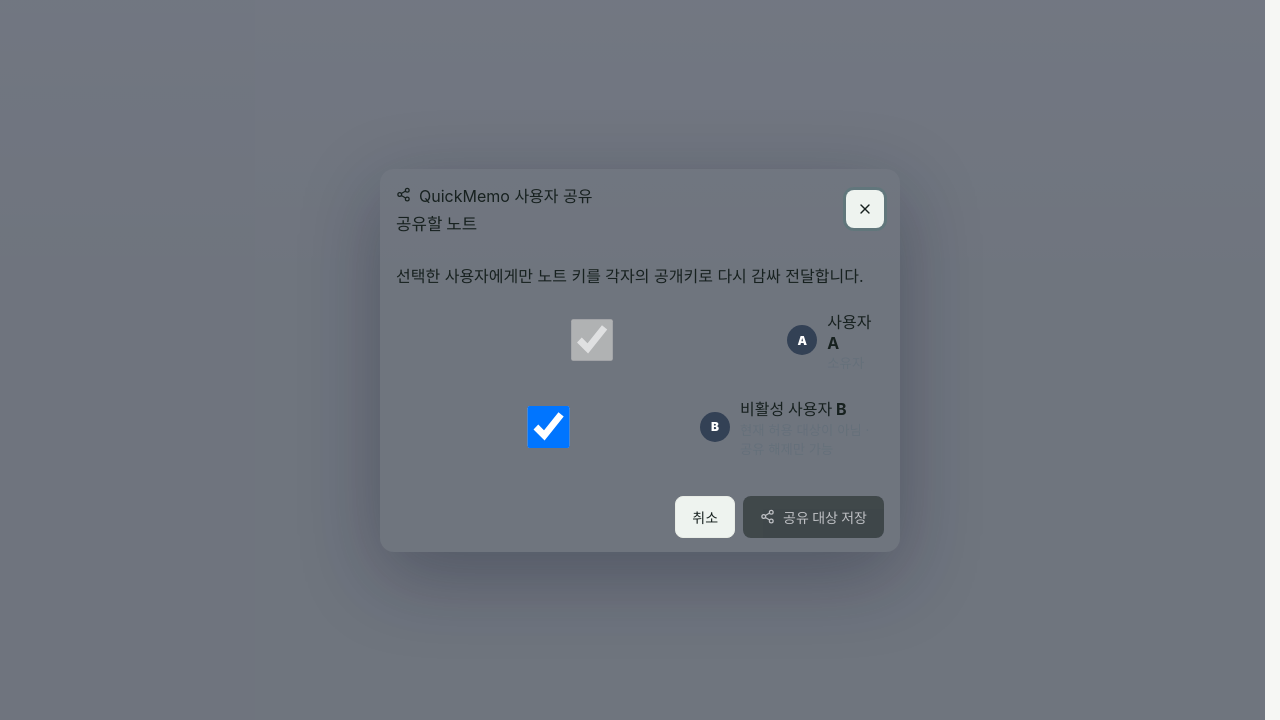
Scenario: VaultParticipantShareDialog › renders an unavailable existing participant as removable but never addable again
Expected: the button "공유 대상 저장" is disabled, [743, 496, 884, 538]
Click the checkbox labelled "B 비활성 사용자 B 현재 허용 대상이 아님 · 공유 해제만 가능" at (548, 426), box [410, 406, 687, 448]
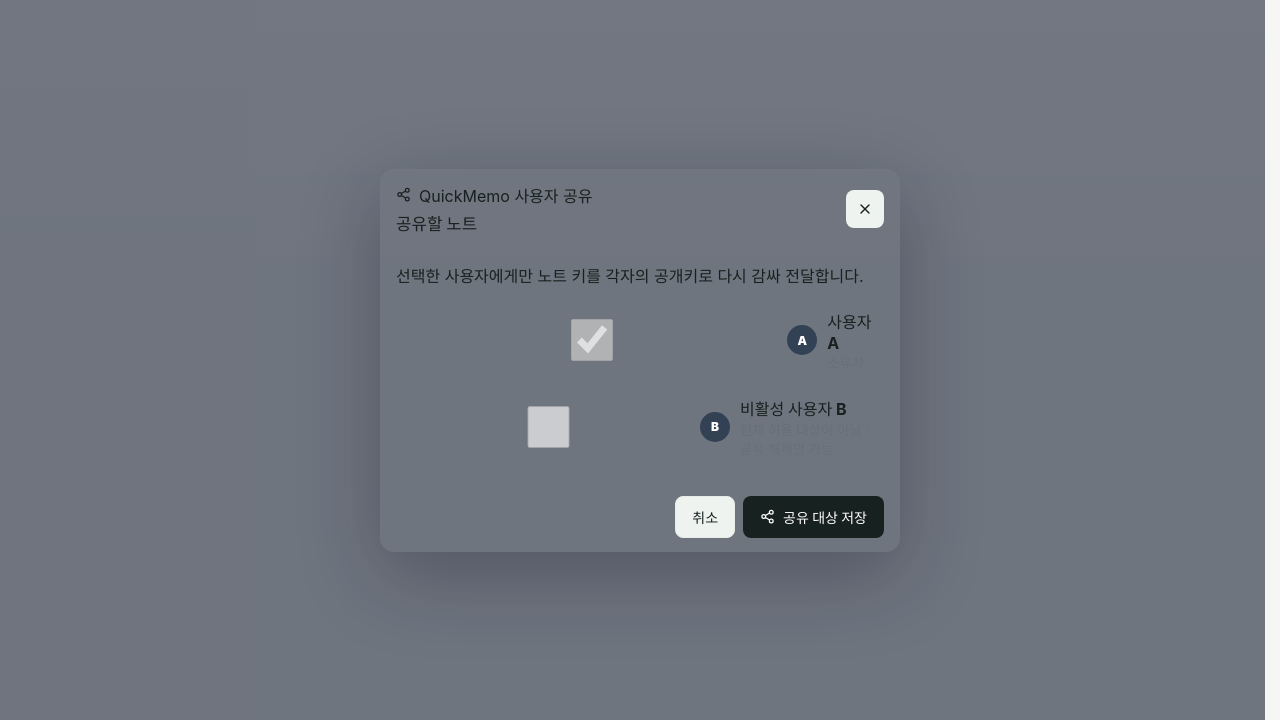
Expected: the checkbox labelled "B 비활성 사용자 B 현재 허용 대상이 아님 · 공유 해제만 가능" is not checked, [410, 406, 687, 448]
Expected: the button "공유 대상 저장" is enabled, [743, 496, 884, 538]
